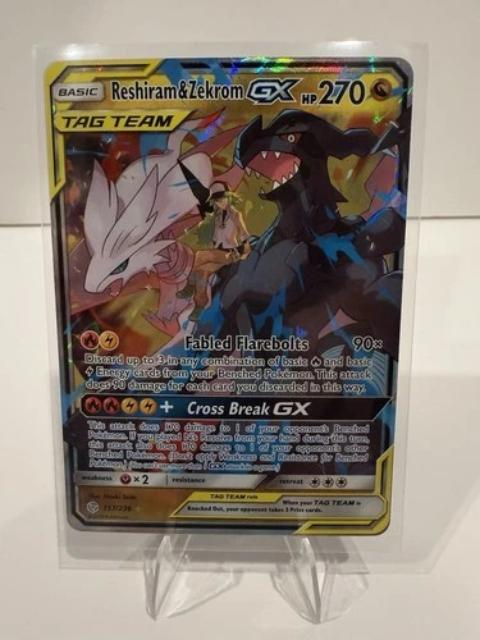Card: (38, 53, 420, 539)
Name: (102, 72, 315, 109)
